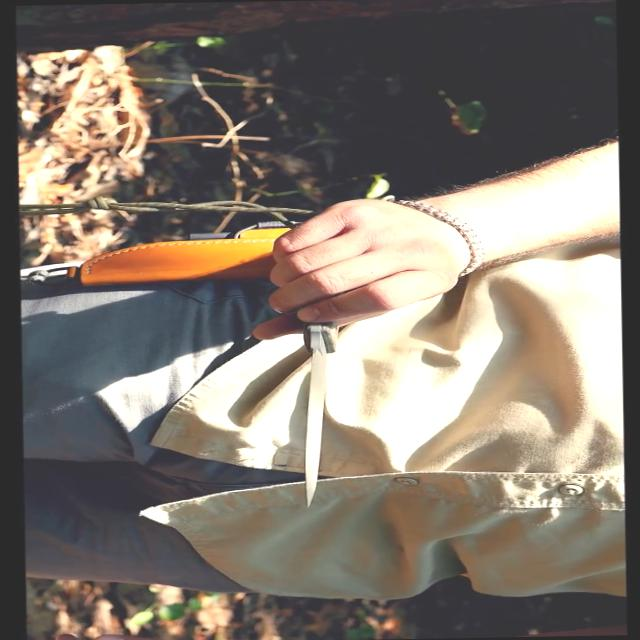knife: (246, 222, 386, 512)
